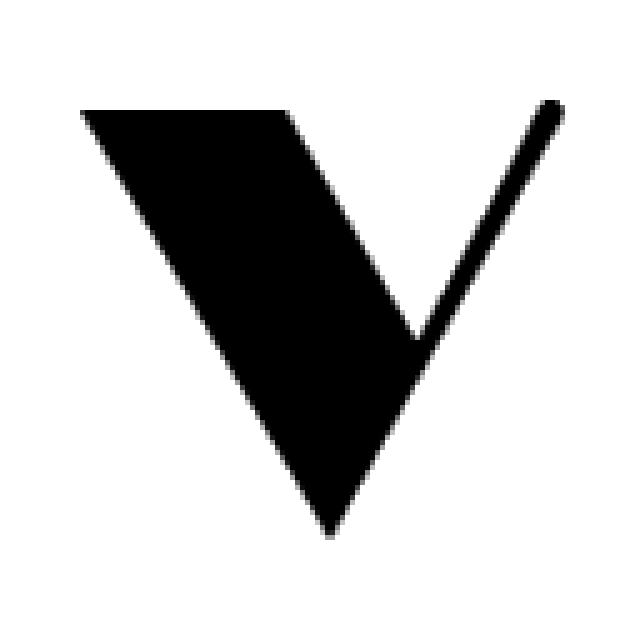V: (75, 85, 570, 540)
